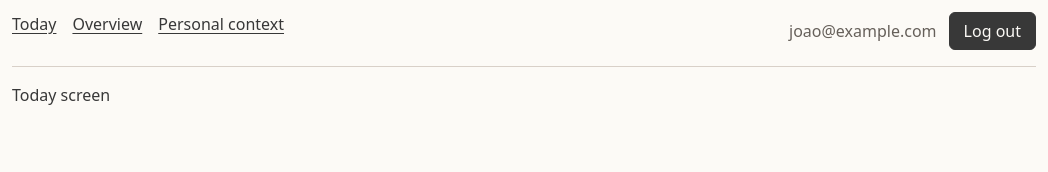
says so when logging out fails, and keeps the page and its data
The width and height of the screenshot is (1048, 172).
Click the button "Log out" at point(992, 31), box [949,12,1036,50]
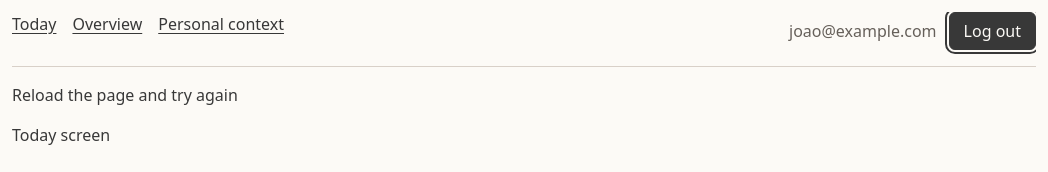
Expected: the text "Today screen" is shown, [12,124,110,146]
Now the message reads "Reload the page and try again", box [12,84,238,106]
